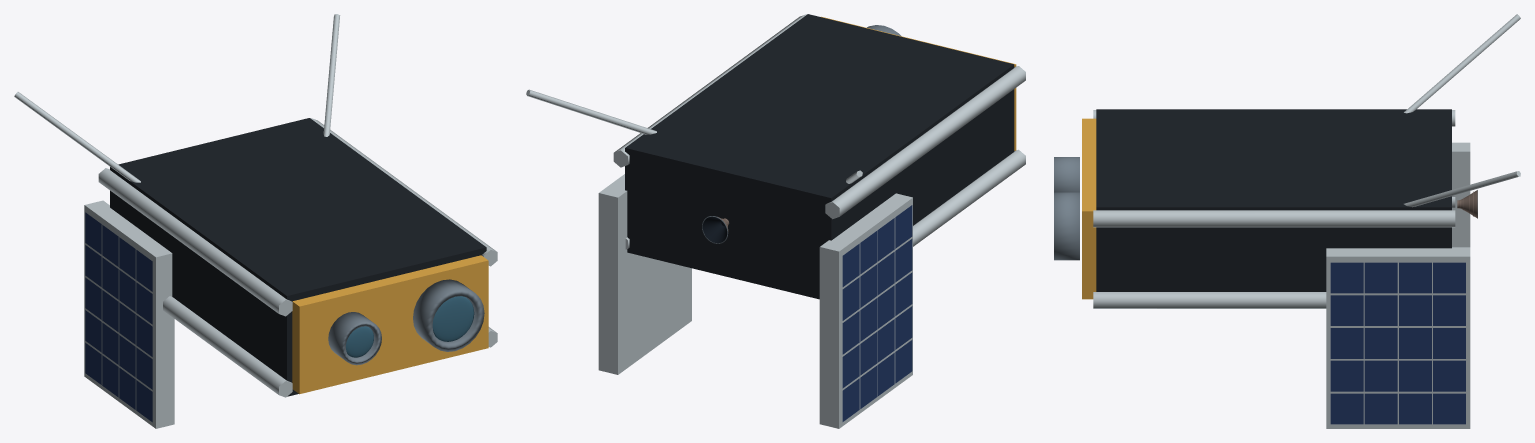
Rendered from liciacube_stowed.glb.
3 renders of one model, left to right at view 1: azimuth 30°, elevation 25°; view 2: azimuth 150°, elevation 25°; view 3: azimuth 270°, elevation 25°, orthographic. The views are drawn at different scales.
Parts seen in each view (by area): view 1: liciacube.mesh_Carbon_composite, liciacube.mesh_Gold_thermal_insulation, liciacube.wing_01.panel.mesh_Indigo_solar_cells, liciacube.mesh_Satin_aluminum, liciacube.wing_01.panel.mesh_Satin_aluminum, liciacube.leia.mesh_Machined_steel, liciacube.luke.mesh_Machined_steel, liciacube.leia.lens.mesh_Coated_optical_glass, liciacube.antenna_01.mesh_Satin_aluminum, liciacube.antenna_02.mesh_Satin_aluminum, liciacube.luke.lens.mesh_Coated_optical_glass; view 2: liciacube.mesh_Carbon_composite, liciacube.wing_01.panel.mesh_Indigo_solar_cells, liciacube.wing_02.panel.mesh_Satin_aluminum, liciacube.wing_01.panel.mesh_Satin_aluminum, liciacube.mesh_Satin_aluminum, liciacube.antenna_02.mesh_Satin_aluminum, liciacube.cold_gas_nozzle.bell.mesh_Shadowed_interior; view 3: liciacube.mesh_Carbon_composite, liciacube.wing_02.panel.mesh_Indigo_solar_cells, liciacube.mesh_Satin_aluminum, liciacube.wing_02.panel.mesh_Satin_aluminum, liciacube.mesh_Gold_thermal_insulation, liciacube.leia.mesh_Machined_steel, liciacube.wing_01.panel.mesh_Satin_aluminum, liciacube.antenna_01.mesh_Satin_aluminum, liciacube.luke.mesh_Machined_steel, liciacube.antenna_02.mesh_Satin_aluminum.
Part boxes in pixels (bbox=[...]): liciacube.mesh_Carbon_composite: bbox=[110, 118, 486, 396]; liciacube.mesh_Gold_thermal_insulation: bbox=[292, 255, 488, 394]; liciacube.wing_01.panel.mesh_Indigo_solar_cells: bbox=[85, 212, 152, 422]; liciacube.mesh_Satin_aluminum: bbox=[98, 118, 497, 397]; liciacube.wing_01.panel.mesh_Satin_aluminum: bbox=[84, 200, 174, 428]; liciacube.leia.mesh_Machined_steel: bbox=[413, 279, 484, 351]; liciacube.luke.mesh_Machined_steel: bbox=[328, 312, 381, 365]; liciacube.leia.lens.mesh_Coated_optical_glass: bbox=[432, 296, 474, 341]; liciacube.antenna_01.mesh_Satin_aluminum: bbox=[14, 92, 140, 182]; liciacube.antenna_02.mesh_Satin_aluminum: bbox=[323, 14, 340, 136]; liciacube.luke.lens.mesh_Coated_optical_glass: bbox=[346, 326, 373, 357]; liciacube.mesh_Carbon_composite: bbox=[625, 14, 1014, 299]; liciacube.wing_01.panel.mesh_Indigo_solar_cells: bbox=[842, 205, 912, 421]; liciacube.wing_02.panel.mesh_Satin_aluminum: bbox=[598, 174, 691, 374]; liciacube.wing_01.panel.mesh_Satin_aluminum: bbox=[819, 193, 912, 428]; liciacube.mesh_Satin_aluminum: bbox=[613, 14, 1025, 249]; liciacube.antenna_02.mesh_Satin_aluminum: bbox=[526, 89, 656, 134]; liciacube.cold_gas_nozzle.bell.mesh_Shadowed_interior: bbox=[702, 216, 727, 243]; liciacube.mesh_Carbon_composite: bbox=[1096, 109, 1451, 291]; liciacube.wing_02.panel.mesh_Indigo_solar_cells: bbox=[1330, 262, 1465, 424]; liciacube.mesh_Satin_aluminum: bbox=[1093, 110, 1455, 308]; liciacube.wing_02.panel.mesh_Satin_aluminum: bbox=[1326, 247, 1470, 428]; liciacube.mesh_Gold_thermal_insulation: bbox=[1082, 118, 1096, 299]; liciacube.leia.mesh_Machined_steel: bbox=[1054, 192, 1079, 260]; liciacube.wing_01.panel.mesh_Satin_aluminum: bbox=[1452, 142, 1470, 247]; liciacube.antenna_01.mesh_Satin_aluminum: bbox=[1404, 14, 1520, 113]; liciacube.luke.mesh_Machined_steel: bbox=[1054, 157, 1079, 192]; liciacube.antenna_02.mesh_Satin_aluminum: bbox=[1404, 171, 1520, 207].
Size of the model in its own units: 0.3649 by 0.2981 by 0.4516.
